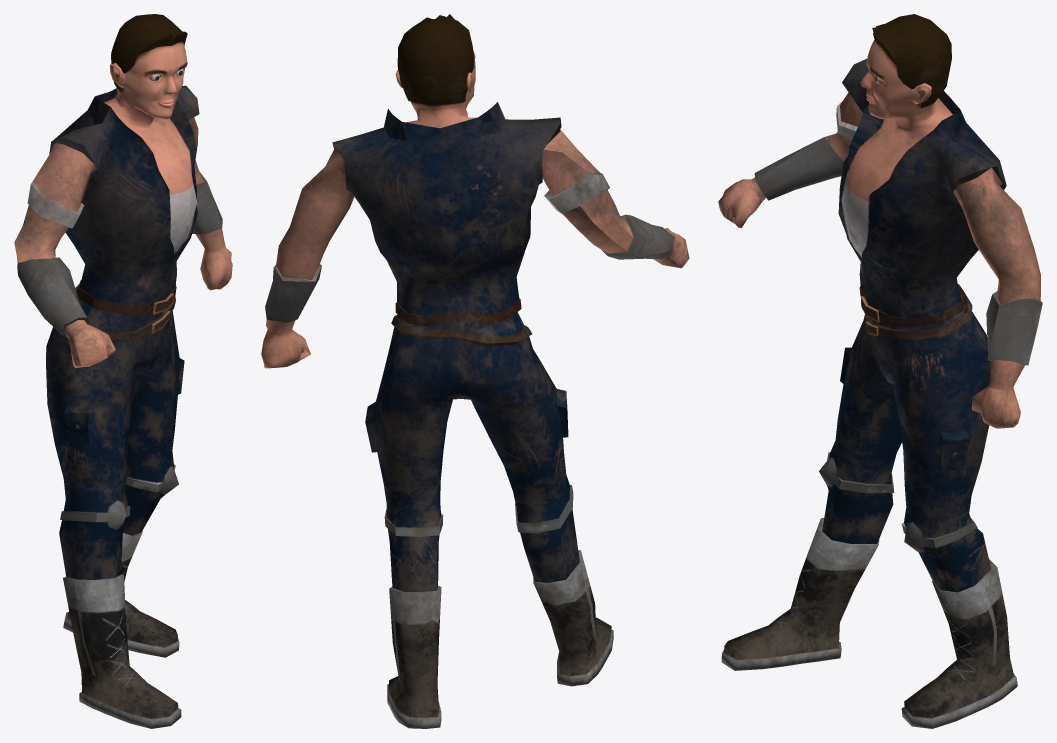
File: Anim_abrir_puerta_ok_jugador.0032.obj
3 views of the same model, side by side, from view 1: azimuth 30°, elevation 25°; view 2: azimuth 150°, elevation 25°; view 3: azimuth 270°, elevation 25° (orthographic). The views are drawn at different scales.
Visible parts, largest first — view 1: polySurface1; view 2: polySurface1; view 3: polySurface1.
Part boxes in pixels (left/top/right/bottom): polySurface1: left=14, top=14, right=232, bottom=728; polySurface1: left=261, top=14, right=689, bottom=728; polySurface1: left=718, top=14, right=1042, bottom=728.
Size of the model in its own units: 4.46 by 9.58 by 4.08.
